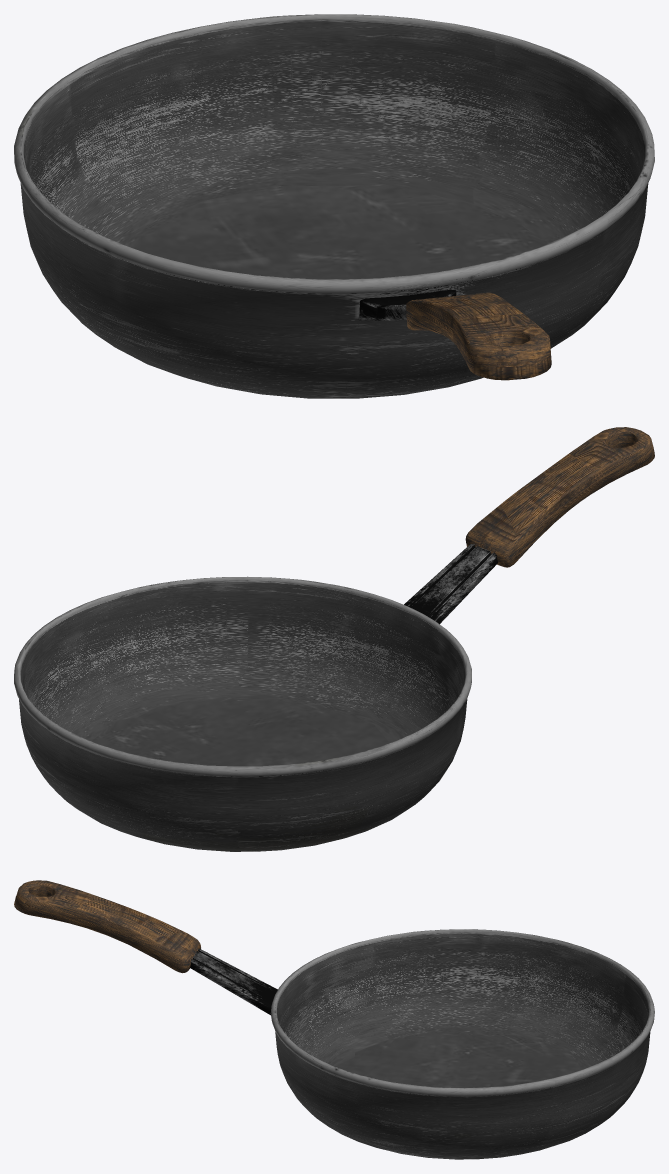
File: buyuk-tava.glb
3 views of the same model, one above another, from view 1: azimuth 30°, elevation 25°; view 2: azimuth 150°, elevation 25°; view 3: azimuth 270°, elevation 25° (orthographic). The views are drawn at different scales.
Parts seen in each view (by area): view 1: Куб.028; view 2: Куб.028; view 3: Куб.028.
Boxes of the visible parts, x1,y1,x2,y2 form: Куб.028: (14, 14, 654, 398); Куб.028: (14, 427, 654, 851); Куб.028: (14, 880, 654, 1159).
Size of the model in its own units: 0.3018 by 0.1406 by 0.5035.
3 materials, 3 textured.
